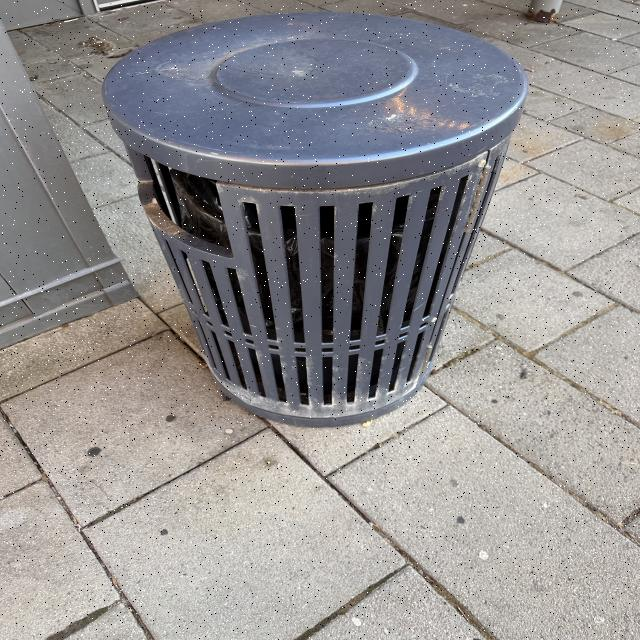Dustbin: (100, 12, 526, 430)
